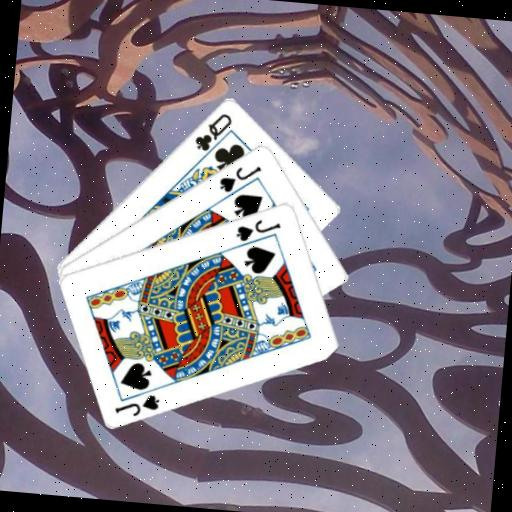JS: (216, 159, 264, 196), (233, 213, 284, 246), (111, 388, 162, 420)
QC: (191, 108, 235, 155)
